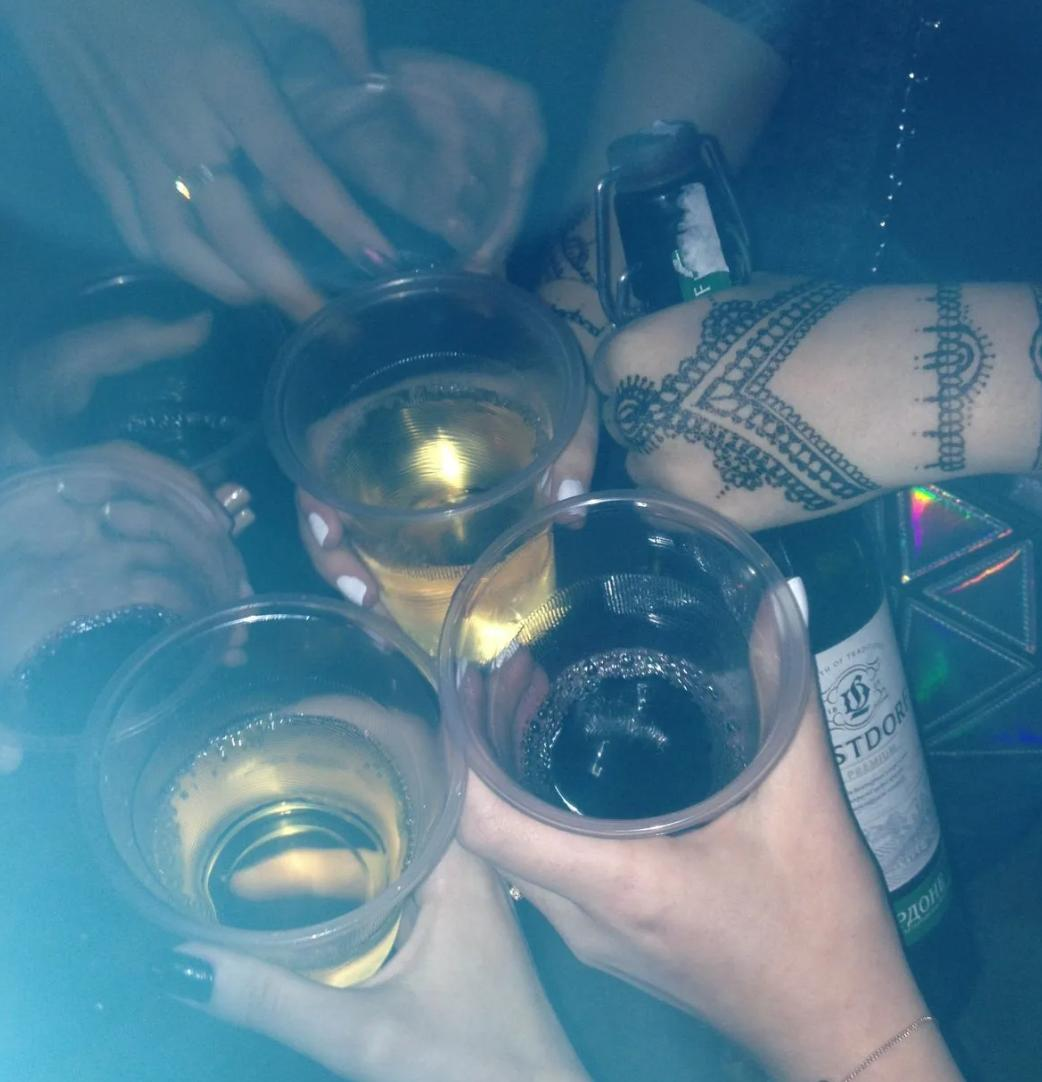wine bottle: (599, 108, 989, 1068)
wine label: (811, 591, 963, 956)
